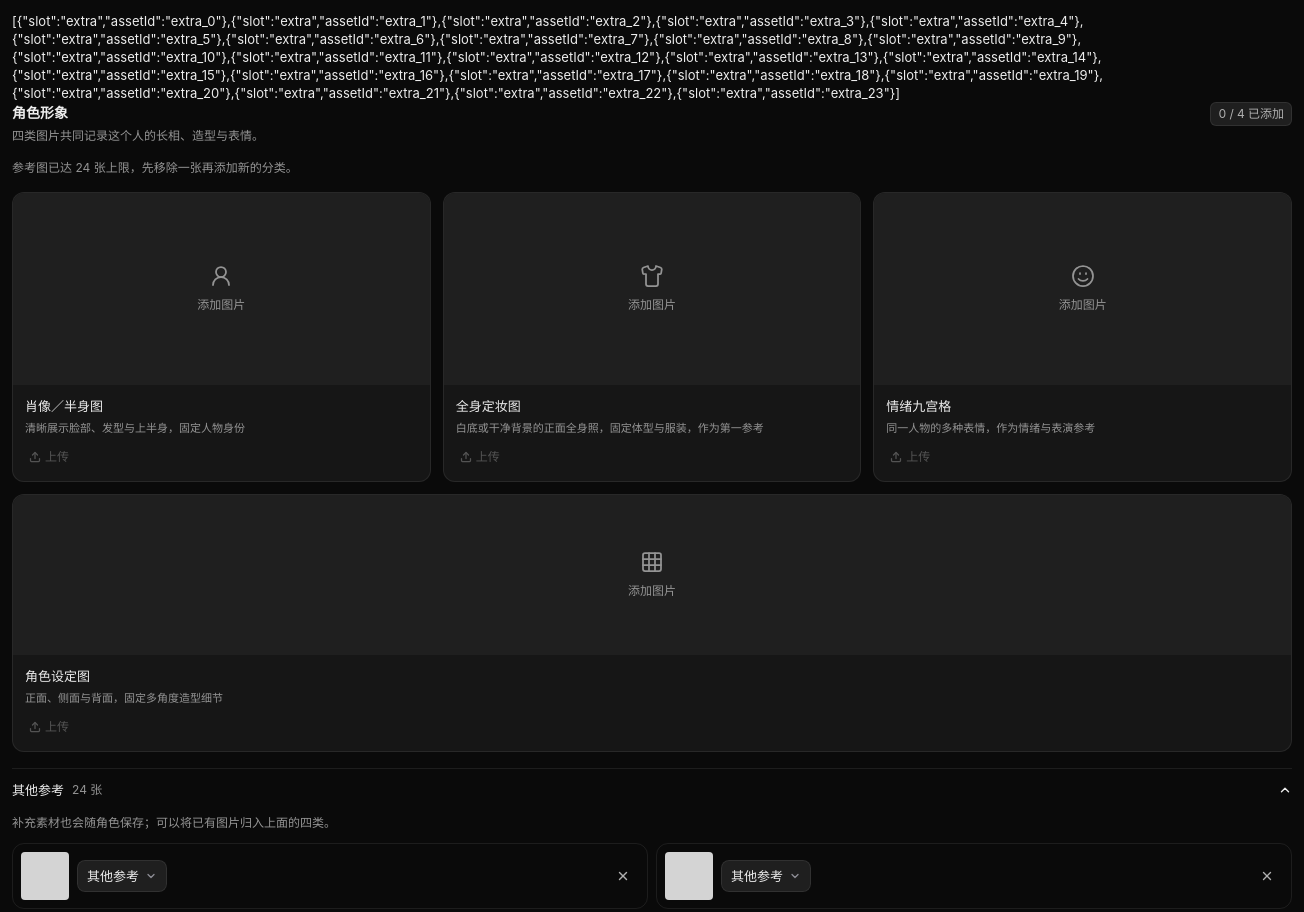
Test case: 角色形象的四类图片 › 24 张满额时仍可把其他参考无损归入四类，分类占位后可替换
Click the dropdown named "参考图 1 的分类". click: (122,876)
box: [77,860,167,892]
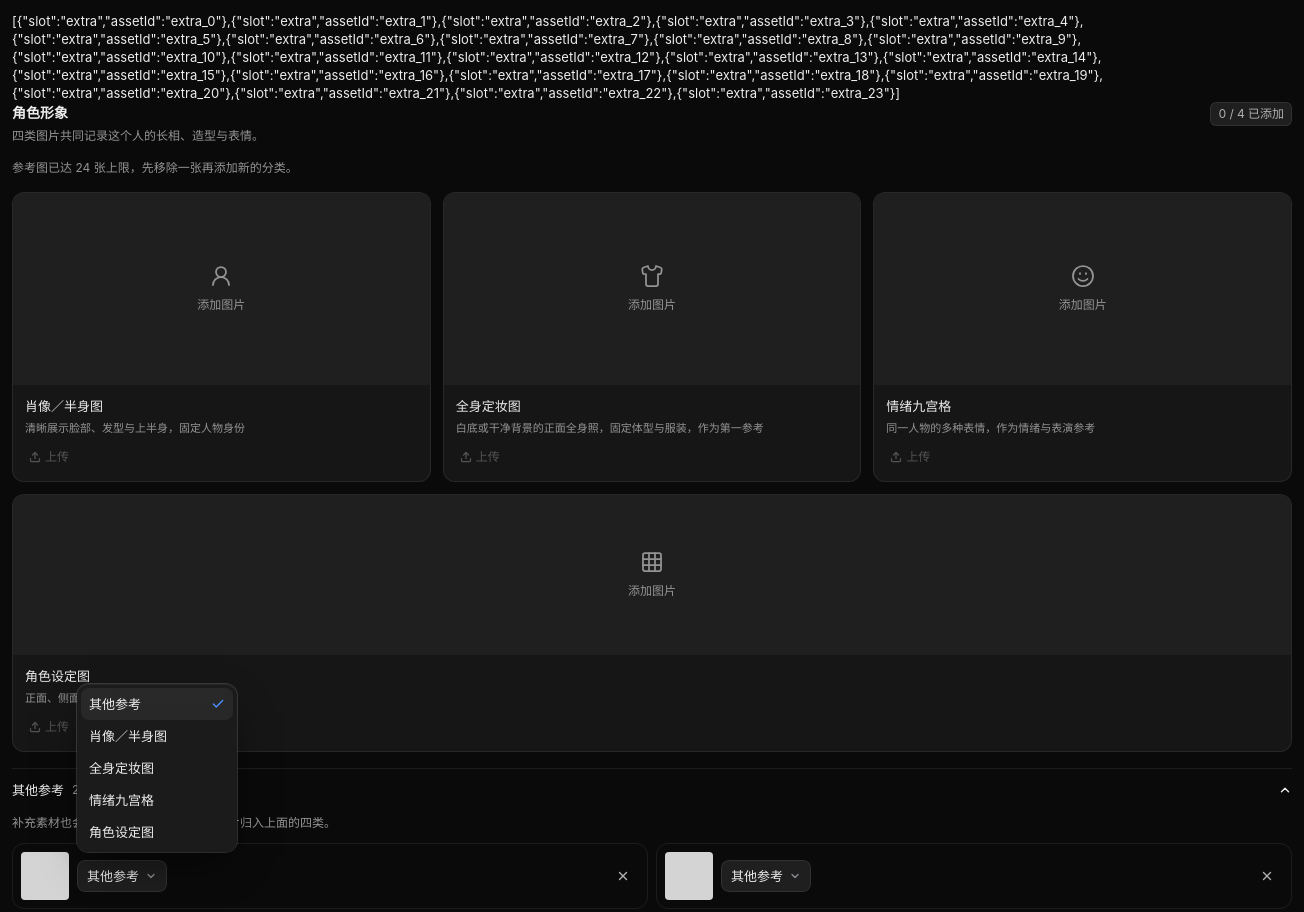
Click the option "全身定妆图". click: (122,768)
box: [89,760,154,776]
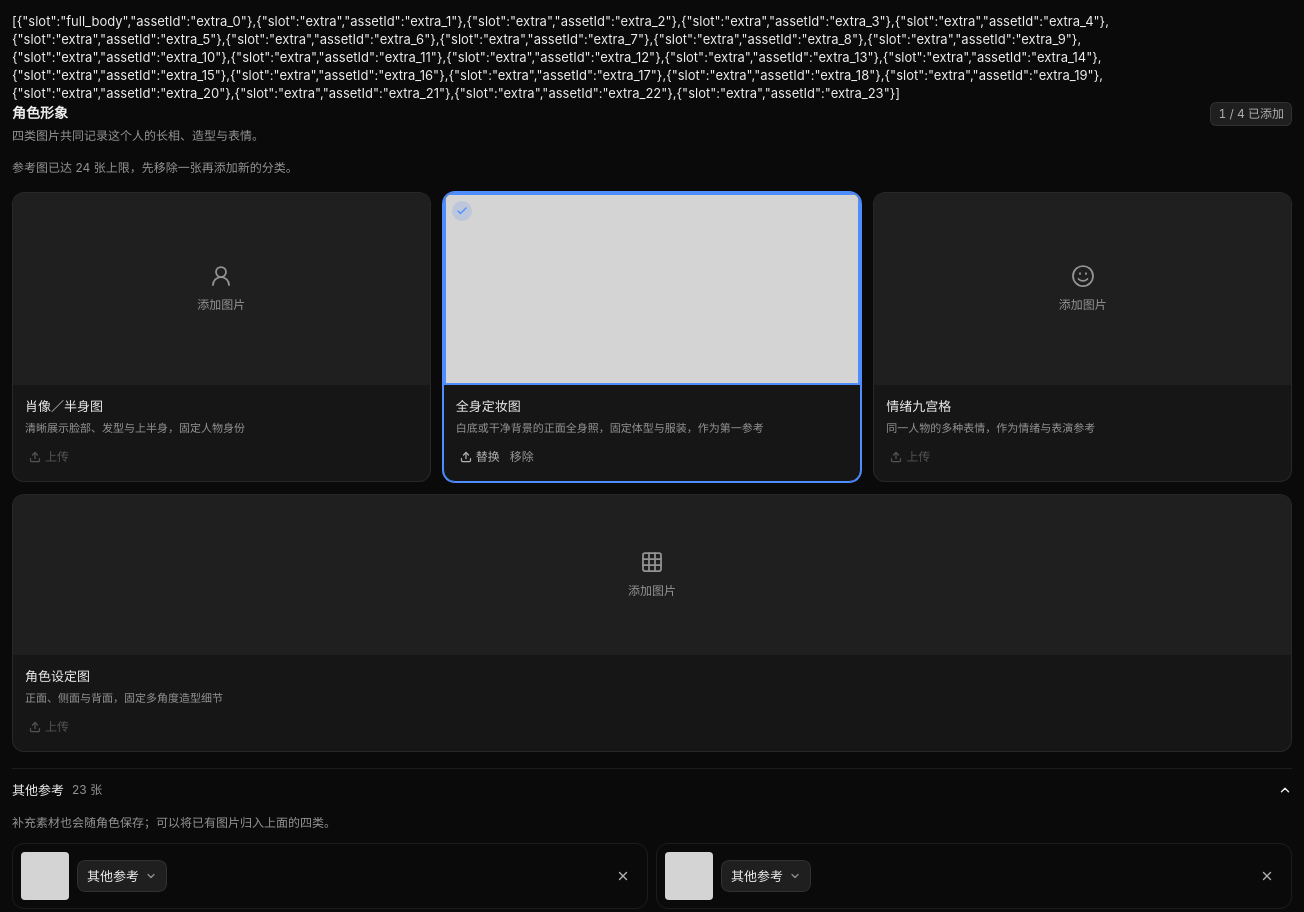
Expected: the button "上传" below "清晰展示脸部、发型与上半身，固定人物身份" is disabled, [25,445,73,469]
Expected: the button "替换" is enabled, [456,445,504,469]
